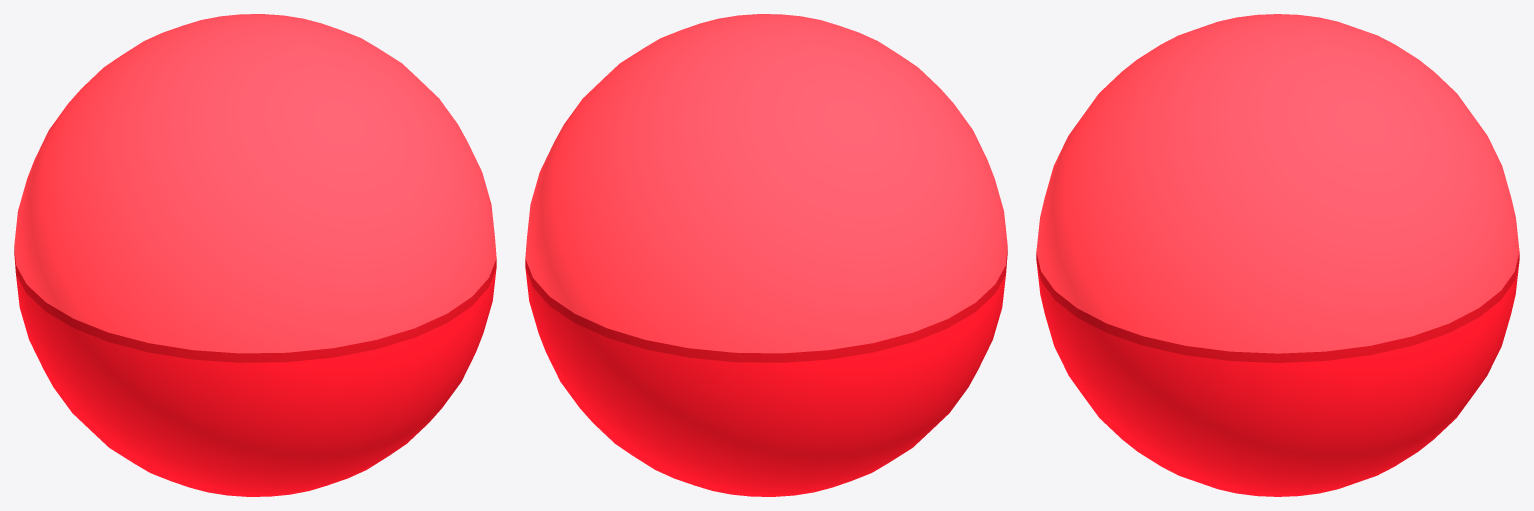
Rendered from gumball-red.glb.
The picture shows the model from 3 angles, left to right: view 1: azimuth 30°, elevation 25°; view 2: azimuth 150°, elevation 25°; view 3: azimuth 270°, elevation 25°; orthographic projection.
Parts seen in each view (by area): view 1: gumball-red; view 2: gumball-red; view 3: gumball-red.
Part boxes in pixels (<box>): gumball-red: <box>14,14,496,496</box>; gumball-red: <box>525,14,1007,496</box>; gumball-red: <box>1036,14,1519,496</box>.
Bounding box in the file's own units: 2 × 2 × 2.
